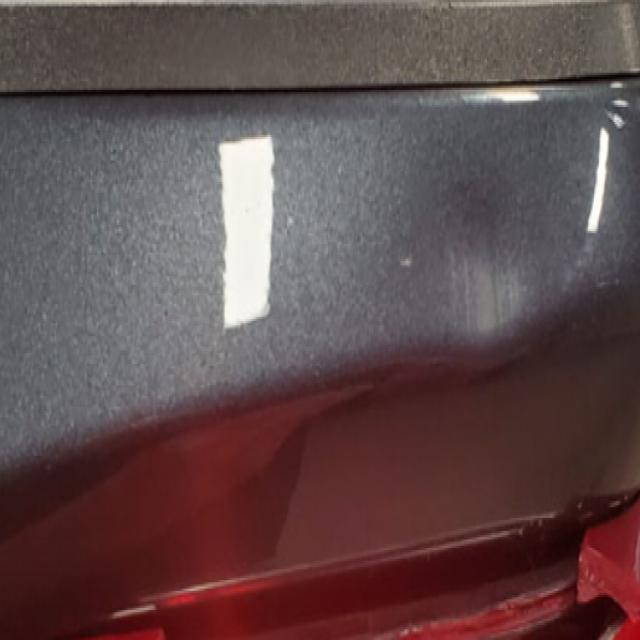dents: (396, 142, 580, 379)
